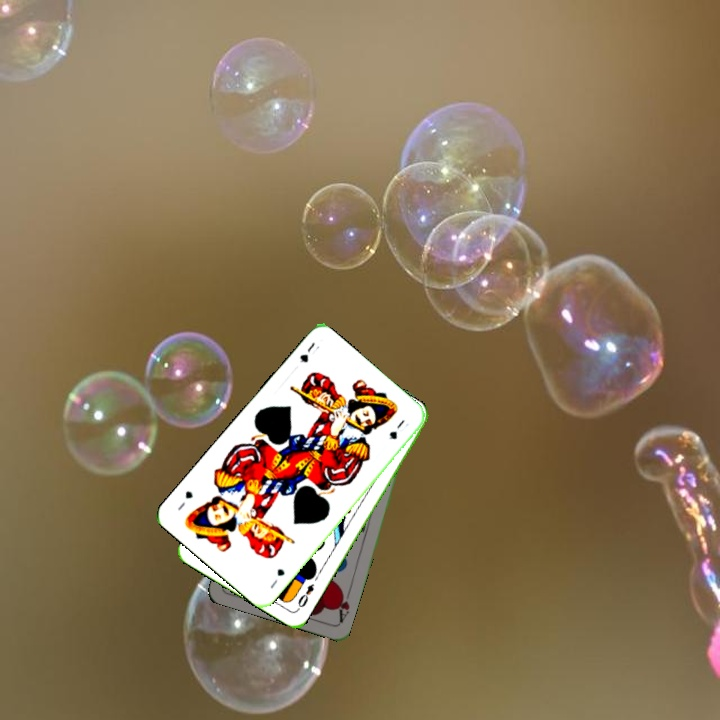EO: (293, 580, 317, 613)
GU: (296, 338, 322, 365), (266, 565, 287, 591)
HA: (332, 586, 354, 626)
